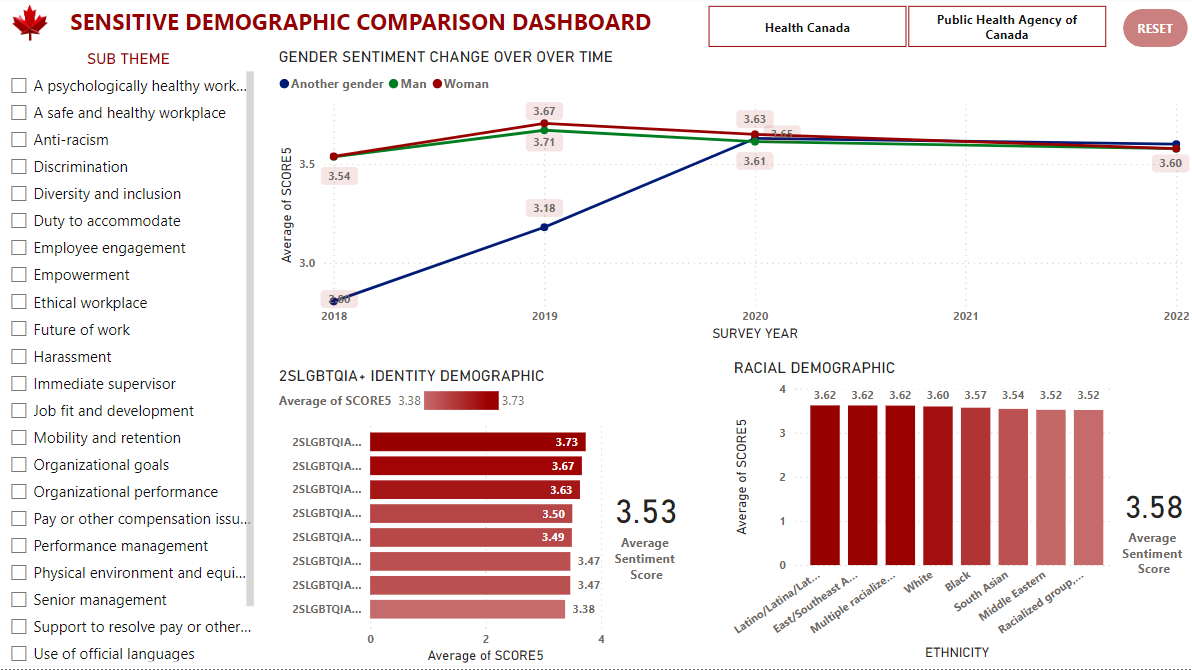

The page's visual inventory and layout, read from the dashboard file:
{"tool":"powerbi","page":{"name":"DEMOGRAPHIC COMPARISON","canvas":[1280,720],"ordinal":2},"visuals":[{"type":"lineStackedColumnComboChart","title":"RACIAL DEMOGRAPHIC","fields":{"Category":["DEMCODE_BYCOND_DESCRIPTION.DESCRIP_E"],"Y":["Avg(COMBINED_DATASETS.SCORE5)"]},"box":[781.7,387.2,422.9,328.9],"z":0,"group":"g3"},{"type":"group","id":"g1","title":"Group 1","box":[294.3,394.5,440.8,325.1],"z":0},{"type":"barChart","title":"2SLGBTQIA+ IDENTITY DEMOGRAPHIC","fields":{"Category":["DEMCODE_BYCOND_DESCRIPTION.DESCRIP_E"],"Y":["Avg(COMBINED_DATASETS.SCORE5)"]},"box":[294.3,395.5,359.4,323.7],"z":0,"group":"g2"},{"type":"group","id":"g2","title":"Group 2","box":[294.3,394.5,441.1,324.3],"z":3,"group":"g1"},{"type":"group","id":"g3","title":"Group 3","box":[781.7,387.2,498.3,330.3],"z":1000},{"type":"card","fields":{"Values":["Avg(COMBINED_DATASETS.SCORE5)"]},"box":[1194.7,388.5,85.7,329.1],"z":1000,"group":"g3"},{"type":"card","fields":{"Values":["Avg(COMBINED_DATASETS.SCORE5)"]},"box":[652.7,394.5,82.6,324.6],"z":1000,"group":"g2"},{"type":"slicer","fields":{"Values":["LVL_Department.DEPT_E"]},"box":[738.8,7.2,465.7,47.5],"z":2000},{"type":"textbox","box":[60.4,3.9,655.4,56.5],"z":3000},{"type":"actionButton","box":[1203.9,13.2,69.5,40.8],"z":4000},{"type":"lineChart","title":"GENDER SENTIMENT CHANGE OVER OVER TIME","fields":{"Category":["COMBINED_DATASETS.SURVEYR"],"Y":["Avg(COMBINED_DATASETS.SCORE5)"],"Series":["DEMCODE_BYCOND_DESCRIPTION.DESCRIP_E"]},"box":[294.3,54,985.7,320],"z":5000},{"type":"image","box":[0,1.1,65.8,52.9],"z":6000},{"type":"slicer","title":"SUB THEME","fields":{"Values":["SUBINDICATOR.SUBINDICATORENG_1"]},"box":[0,55.3,277.6,660.6],"z":7000}]}

Visuals, with their boxes in screenshot pixels (x1, y1, x2, y2), scaled from the page's 1280x720 canvas onto the 1192x670 screenshot:
"RACIAL DEMOGRAPHIC" lineStackedColumnComboChart: (728,360,1122,666)
"Group 1" group: (274,367,685,669)
"2SLGBTQIA+ IDENTITY DEMOGRAPHIC" barChart: (274,368,609,669)
"Group 2" group: (274,367,685,669)
"Group 3" group: (728,360,1191,668)
card - Avg(COMBINED_DATASETS.SCORE5): (1113,362,1191,668)
card - Avg(COMBINED_DATASETS.SCORE5): (608,367,685,669)
slicer - LVL_Department.DEPT_E: (688,7,1122,51)
textbox: (56,4,667,56)
actionButton: (1121,12,1186,50)
"GENDER SENTIMENT CHANGE OVER OVER TIME" lineChart: (274,50,1191,348)
image: (0,1,61,50)
"SUB THEME" slicer: (0,51,259,666)
